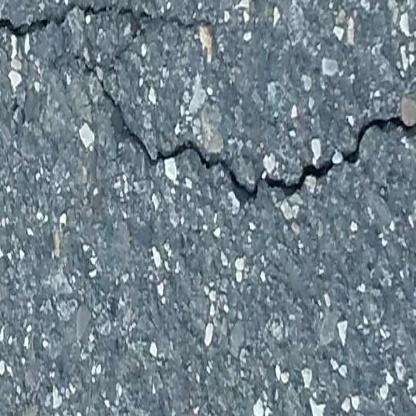Cracks: (65, 46, 416, 206), (0, 0, 217, 60)
